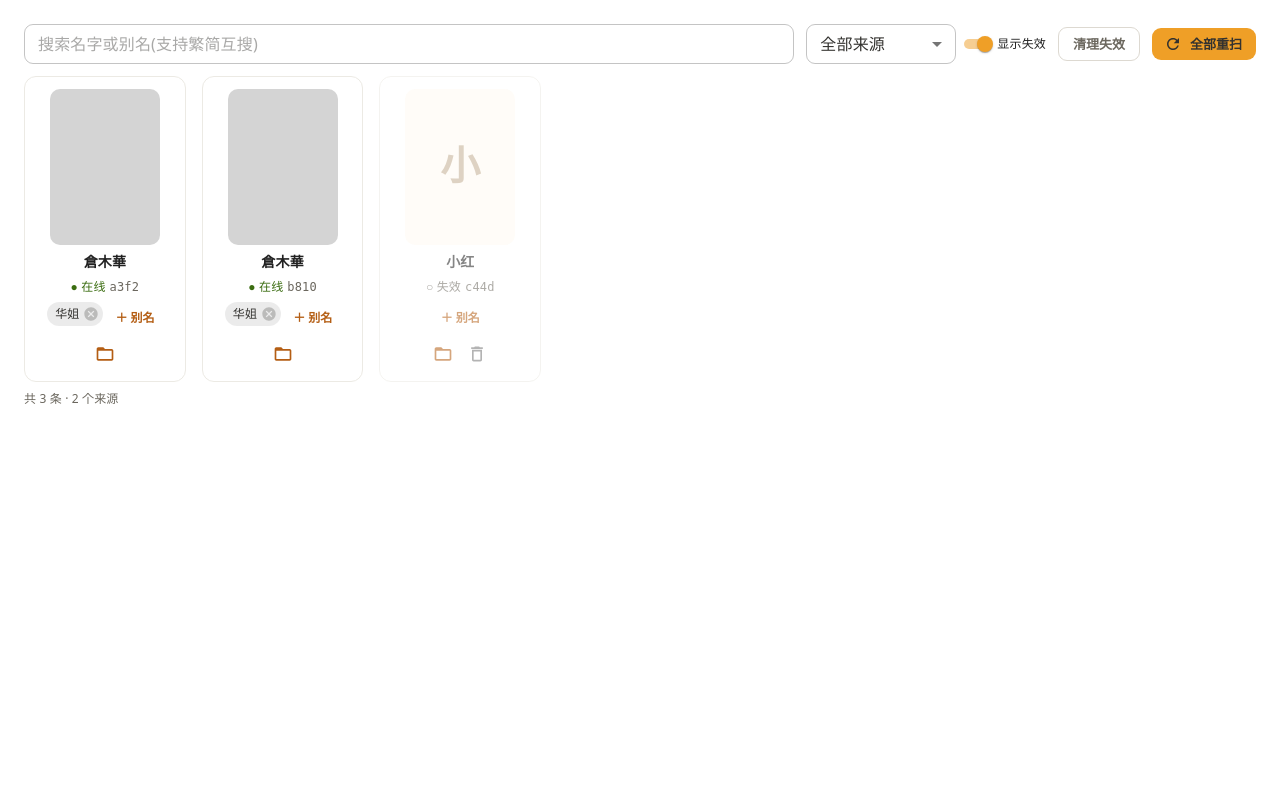
Test: PerformersPage › alias add conflict (409) surfaces the server detail
Step 1. Click the button "＋ 别名" below "a3f2" → (135, 318), box top-left (107, 302), bottom-right (162, 333)
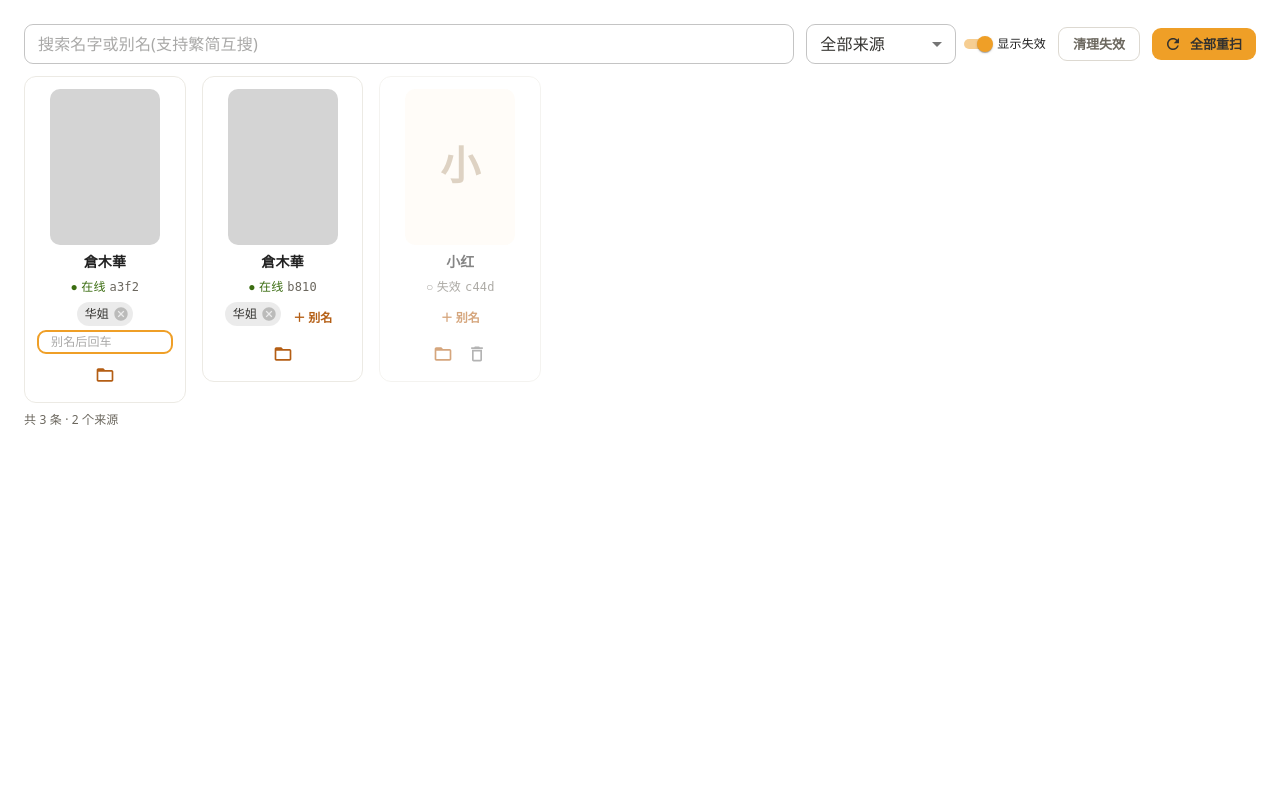
Step 2. Type "华姐" into the field named "为 倉木華 添加别名" → (105, 342), box top-left (37, 330), bottom-right (173, 354)
Then press Enter
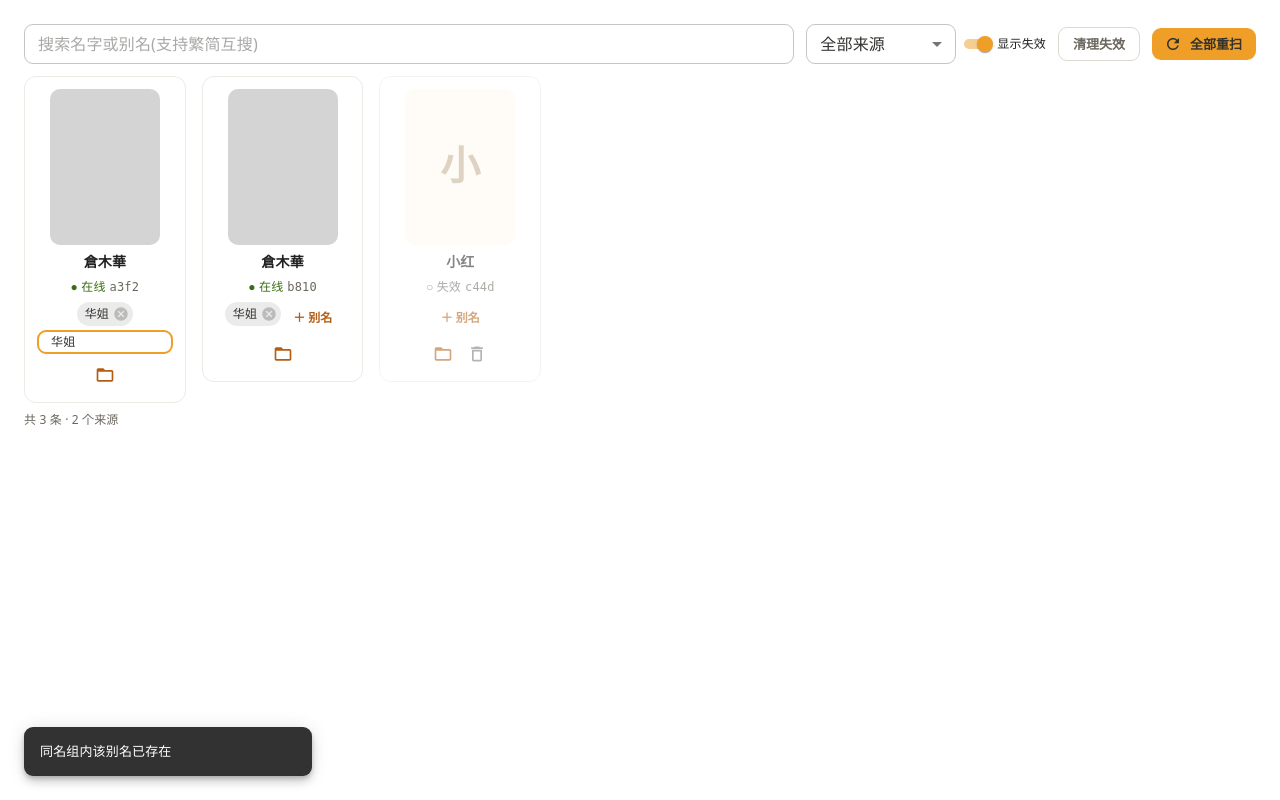
Now the text "同名组内该别名已存在" is shown, box top-left (40, 742), bottom-right (172, 760)
